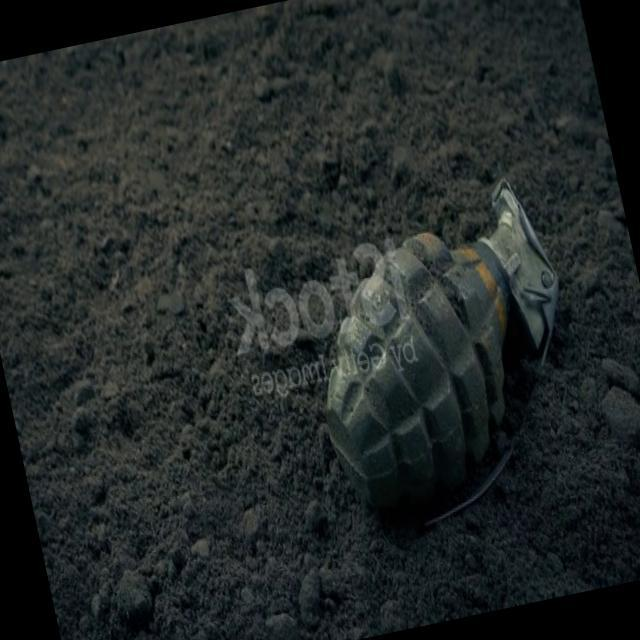grenade: (288, 176, 602, 546)
